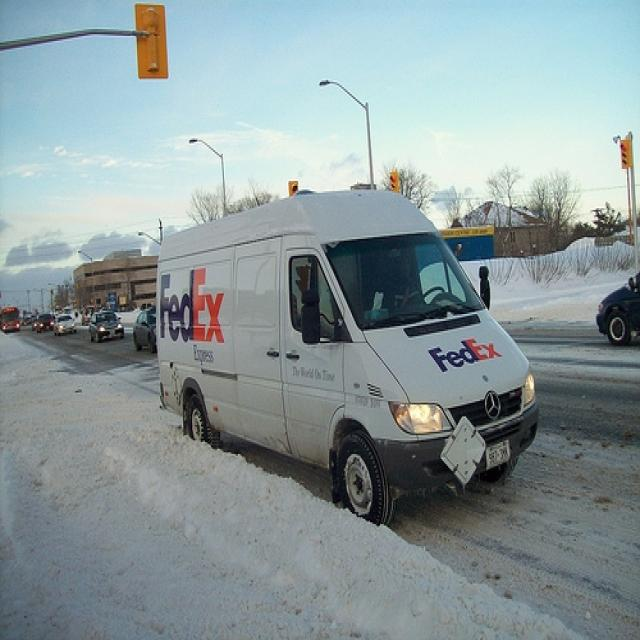fedex: (159, 264, 232, 346), (429, 329, 507, 383)
